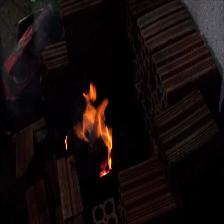fire: (71, 87, 116, 173)
